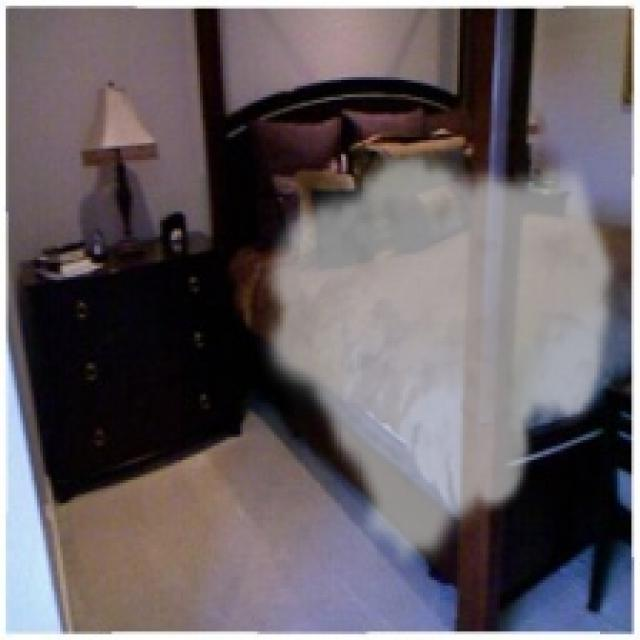smoke: (254, 148, 620, 572)
